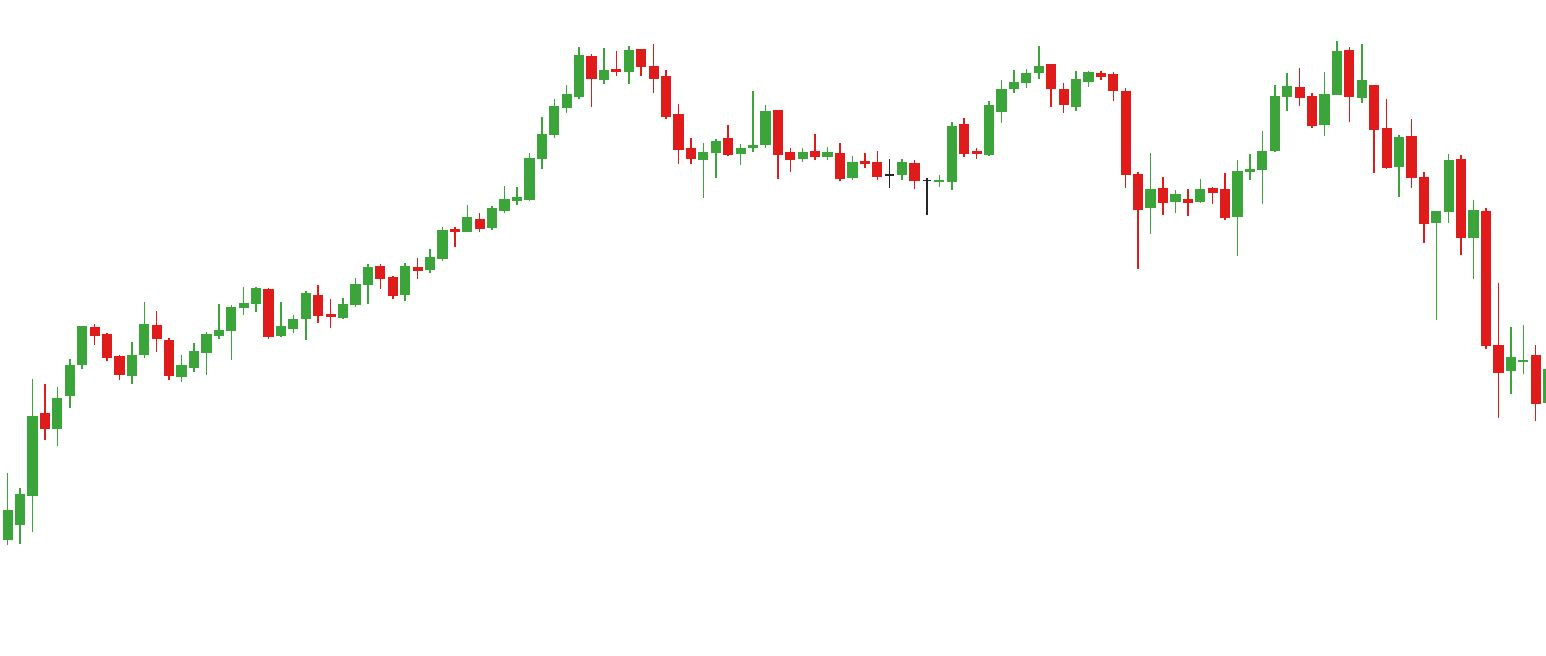buy: (920, 127, 1157, 276)
